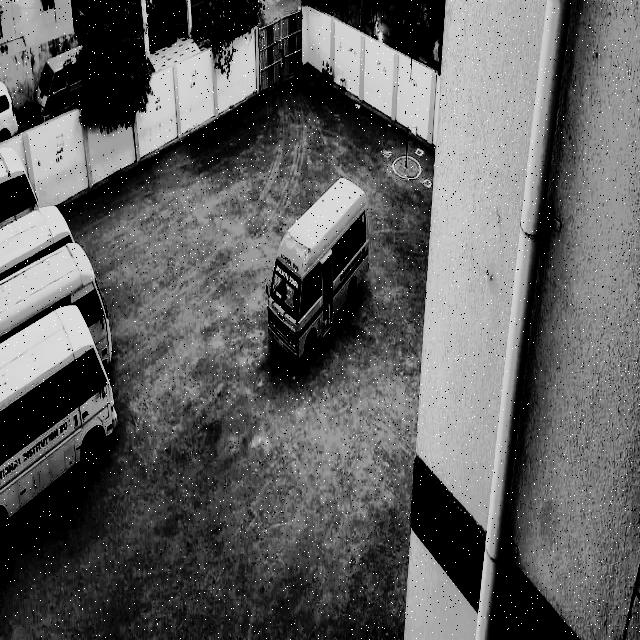Bus: (3, 307, 122, 505), (263, 168, 375, 369), (4, 252, 121, 361), (4, 194, 80, 253)
